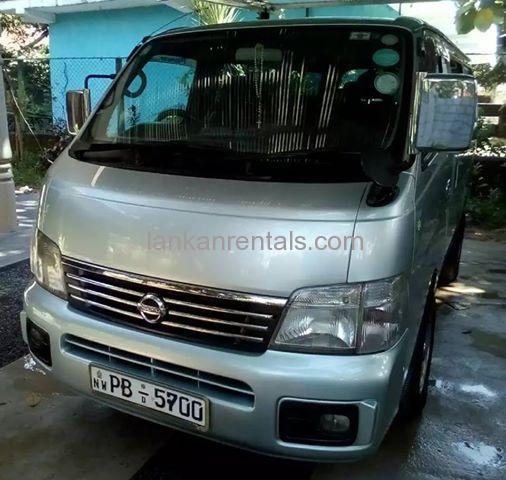car: (26, 22, 479, 465)
